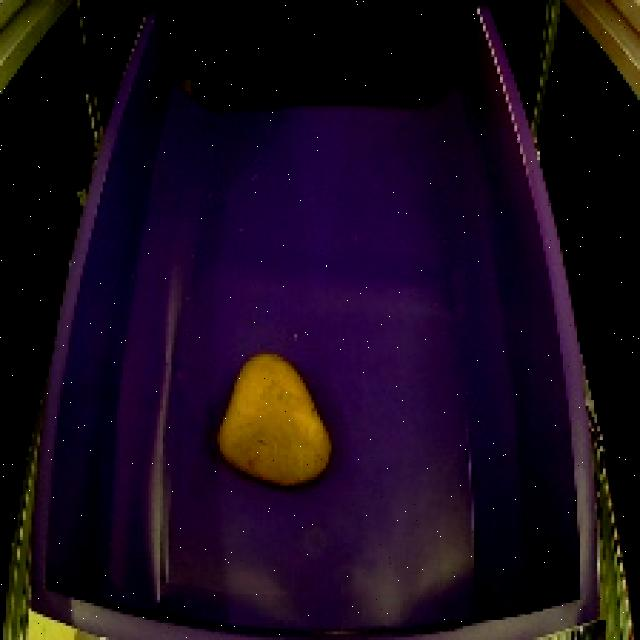cobbles: (204, 338, 340, 493)
